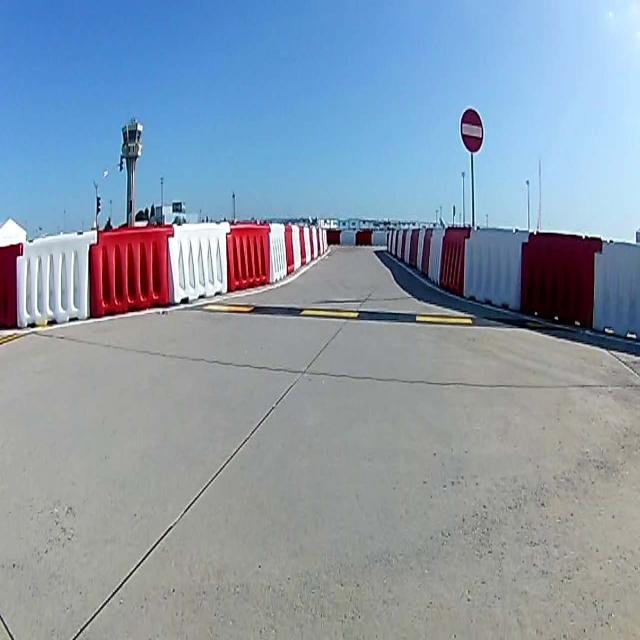girisyok: (459, 103, 485, 156)
